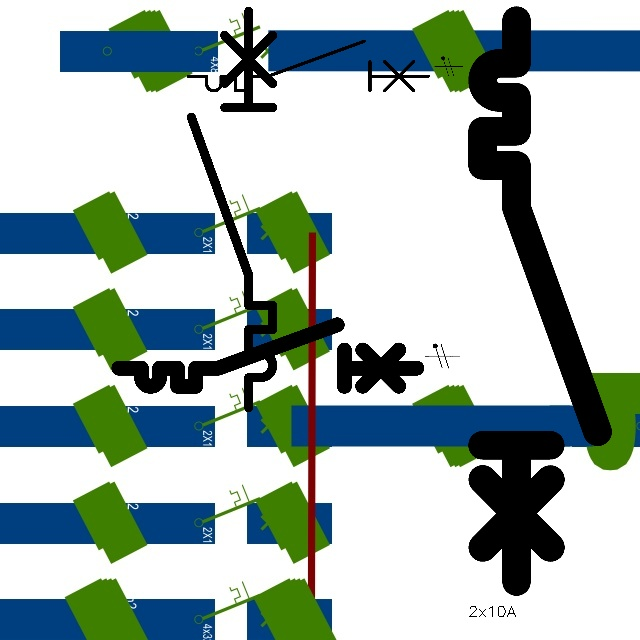interruptor_termomagnetico: (468, 6, 612, 596), (181, 1, 283, 418), (111, 317, 425, 394), (182, 35, 435, 97)
